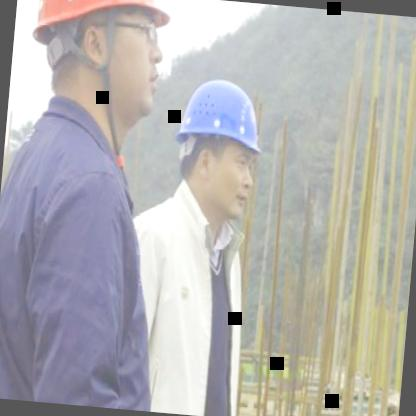helmet: (9, 0, 177, 148), (158, 57, 272, 244)
